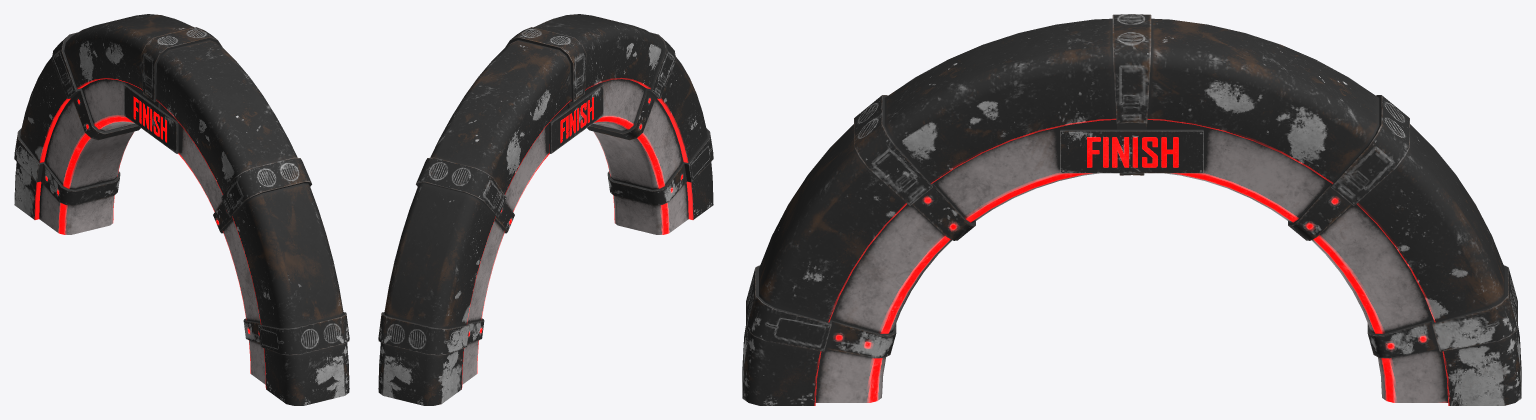
File: SM_Finish1.fbx
The picture shows the model from 3 angles, left to right: view 1: azimuth 30°, elevation 25°; view 2: azimuth 150°, elevation 25°; view 3: azimuth 270°, elevation 25°; orthographic projection. The views are drawn at different scales.
Parts seen in each view (by area): view 1: SM_Finish1_LOD0; view 2: SM_Finish1_LOD0; view 3: SM_Finish1_LOD0.
Part boxes in pixels (bbox=[...]): SM_Finish1_LOD0: bbox=[14, 14, 349, 405]; SM_Finish1_LOD0: bbox=[378, 14, 713, 405]; SM_Finish1_LOD0: bbox=[742, 14, 1521, 405].
Bounding box in the file's own units: 343 × 2491 × 1257.
Materials: 1 (1 with a texture image).
